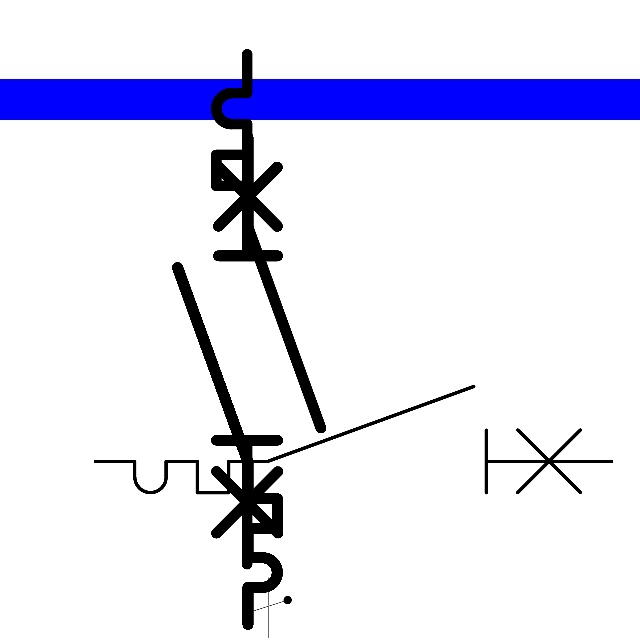interruptor_termomagnetico: (82, 373, 625, 506), (203, 41, 334, 577), (165, 125, 290, 637)
